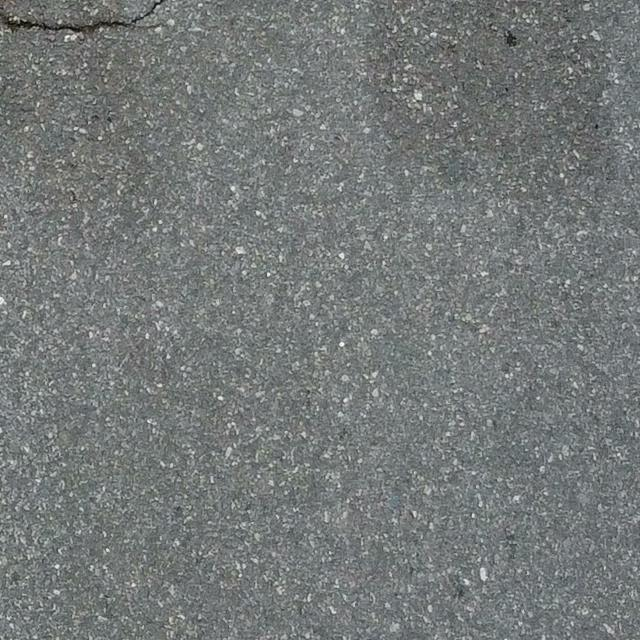TransverseCrack: (3, 1, 166, 34)
